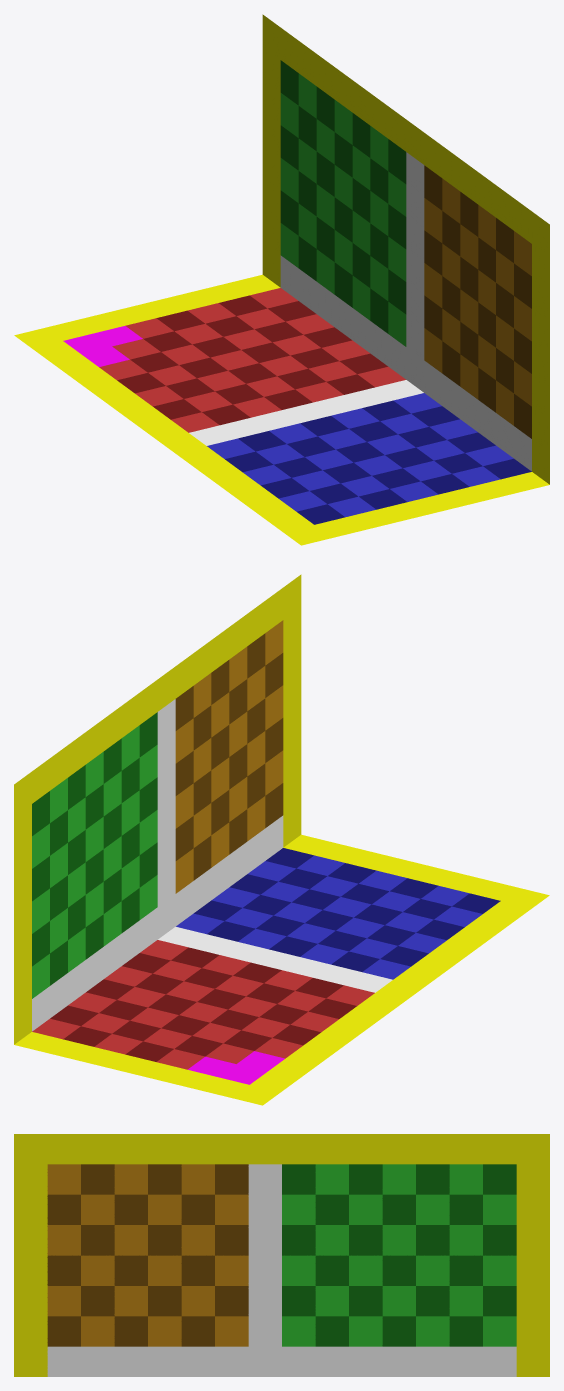
The model's file is pixel_art_folded_16x16.obj.
The picture shows the model from 3 angles, top to bottom: view 1: azimuth 30°, elevation 25°; view 2: azimuth 150°, elevation 25°; view 3: azimuth 270°, elevation 25°; orthographic projection. The views are drawn at different scales.
Parts seen in each view (by area): view 1: pixel_art_hard_fold; view 2: pixel_art_hard_fold; view 3: pixel_art_hard_fold.
Part boxes in pixels (left/top/right/bottom): pixel_art_hard_fold: left=14, top=14, right=549, bottom=545; pixel_art_hard_fold: left=14, top=574, right=549, bottom=1105; pixel_art_hard_fold: left=14, top=1134, right=549, bottom=1376.
Size of the model in its own units: 8 by 8 by 16.
1 material, 1 textured.
